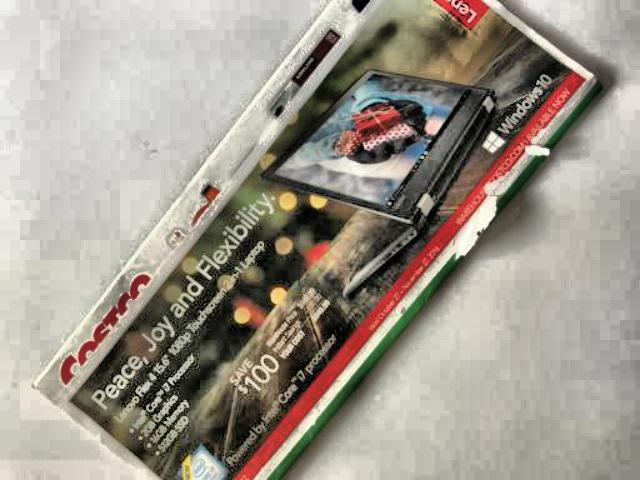Paper: (32, 0, 620, 480)
